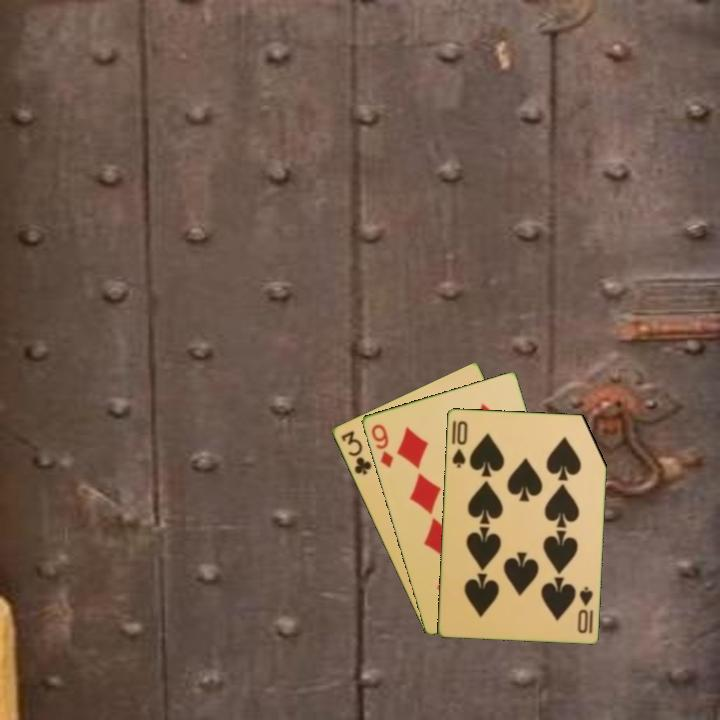10s: (448, 417, 470, 470), (574, 583, 595, 636)
3c: (337, 427, 374, 478)
9d: (367, 420, 396, 471)
